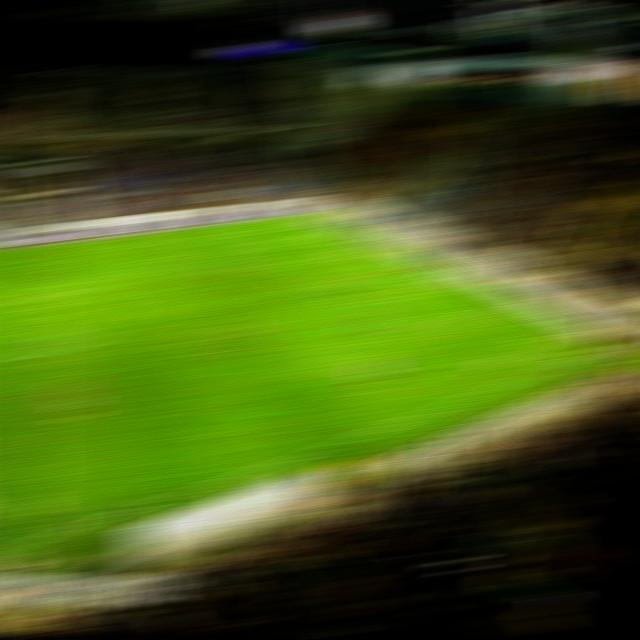bigarea_bottom_inner: (378, 327, 410, 337)
bigarea_bottom_outter: (482, 300, 514, 309)
bigarea_top_inner: (245, 235, 277, 245)
bigarea_top_outter: (325, 226, 357, 236)
bottom_arc_area_intersection: (322, 287, 354, 295)
corner: (292, 211, 325, 222)
halfcircle_bottom: (25, 348, 58, 357)
halfcircle_top: (26, 288, 58, 297)
midline_bottom_intersection: (24, 533, 56, 543)
midline_top_intersection: (27, 240, 59, 249)
smallarea_bottom_inner: (397, 277, 429, 286)
smallarea_bottom_outter: (426, 272, 459, 282)
smallarea_top_inner: (331, 241, 364, 251)
smallarea_top_outter: (358, 239, 390, 250)
top_arc_area_intersection: (274, 254, 306, 264)
